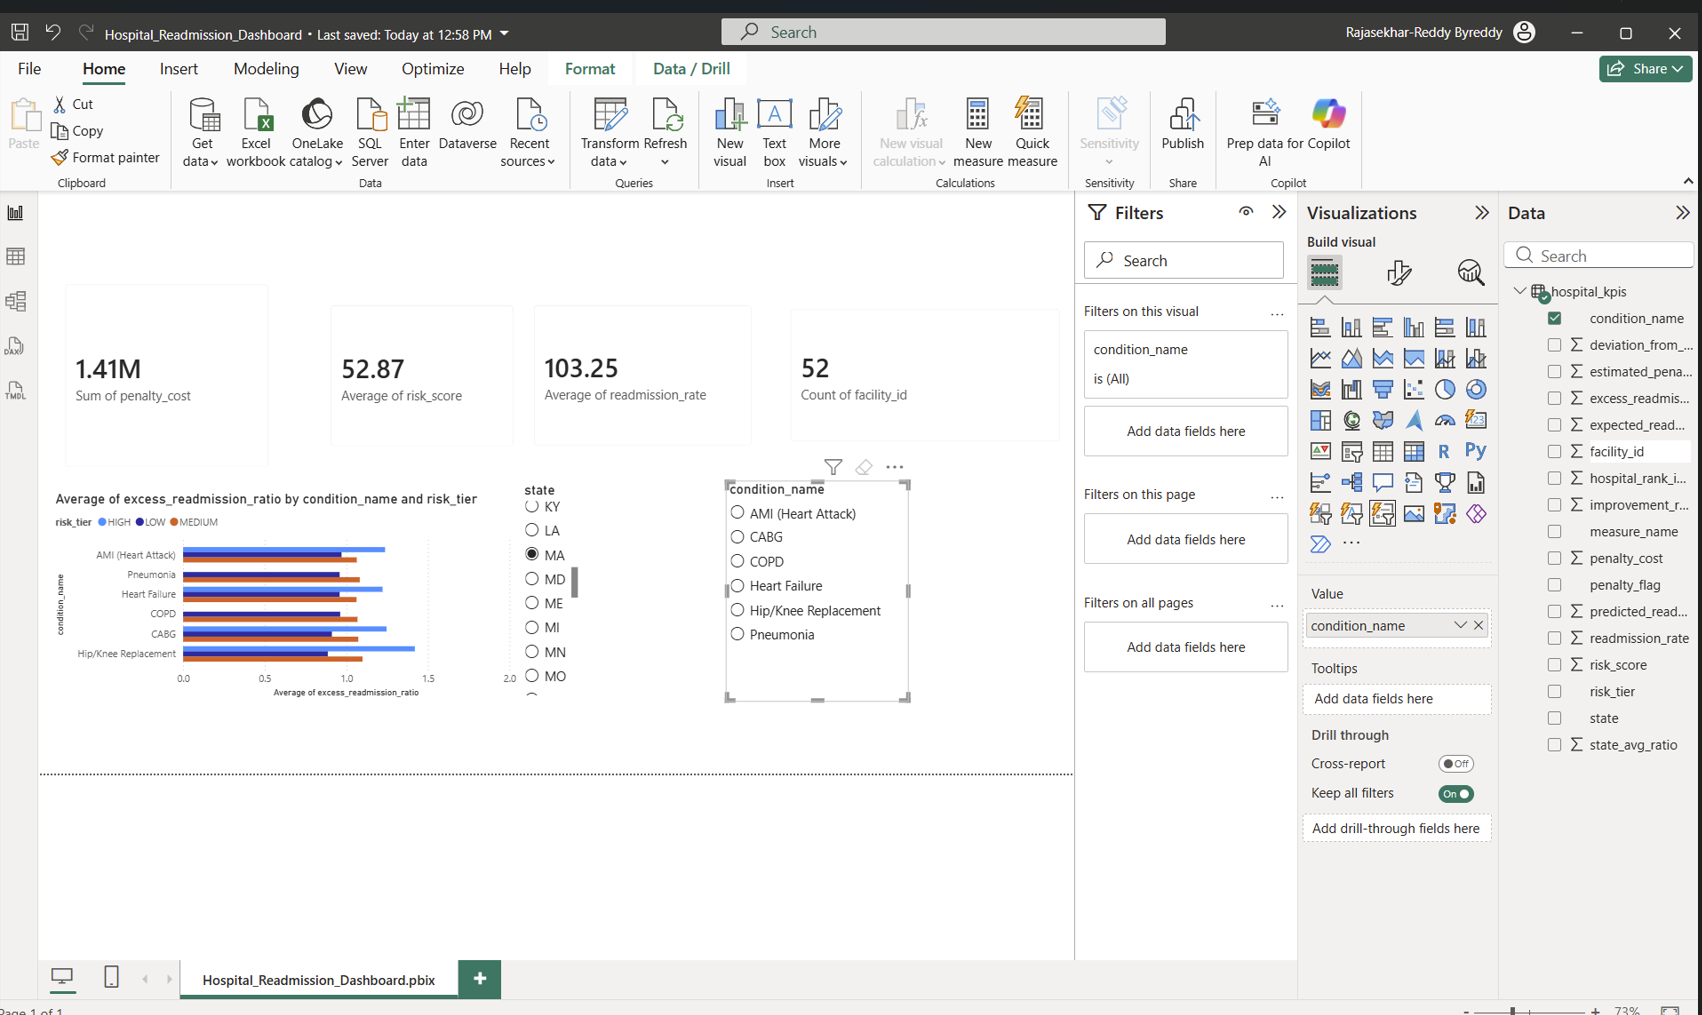

Layout of this report page (visuals, bound fields, positions):
{"tool":"powerbi","page":{"name":"Hospital_Readmission_Dashboard.pbix","canvas":[1280,720],"ordinal":0},"visuals":[{"type":"cardVisual","fields":{"Data":["Sum(hospital_kpis.penalty_cost)"]},"box":[16.5,98.8,285.4,260.7],"z":0},{"type":"cardVisual","fields":{"Data":["Avg(hospital_kpis.risk_score)"]},"box":[344.4,124.9,260.7,208.6],"z":1000},{"type":"cardVisual","fields":{"Data":["Avg(hospital_kpis.readmission_rate)"]},"box":[595.5,124.9,303.3,207.2],"z":2000},{"type":"cardVisual","fields":{"Data":["Count(hospital_kpis.facility_id)"]},"box":[912.5,129,367.8,199],"z":2001},{"type":"clusteredBarChart","fields":{"Category":["hospital_kpis.condition_name"],"Y":["Avg(hospital_kpis.excess_readmission_ratio)"],"Series":["hospital_kpis.risk_tier"]},"box":[16.5,370.5,579.1,260.7],"z":2002},{"type":"listSlicer","fields":{"Values":["hospital_kpis.state"]},"box":[595.5,359.5,76.8,271.7],"z":2003},{"type":"listSlicer","fields":{"Values":["hospital_kpis.condition_name"]},"box":[673,360,226,272],"z":2004}]}

Visuals, with their boxes on the page's 1280x720 design canvas (x1, y1, x2, y2). These are canvas units, not pixel positions in the 1702x1015 screenshot, which may show the page scaled, cropped or inside an application window:
cardVisual - Sum(hospital_kpis.penalty_cost): (x1=16, y1=99, x2=302, y2=360)
cardVisual - Avg(hospital_kpis.risk_score): (x1=344, y1=125, x2=605, y2=334)
cardVisual - Avg(hospital_kpis.readmission_rate): (x1=596, y1=125, x2=899, y2=332)
cardVisual - Count(hospital_kpis.facility_id): (x1=912, y1=129, x2=1280, y2=328)
clusteredBarChart - hospital_kpis.condition_name x Avg(hospital_kpis.excess_readmission_ratio): (x1=16, y1=370, x2=596, y2=631)
listSlicer - hospital_kpis.state: (x1=596, y1=360, x2=672, y2=631)
listSlicer - hospital_kpis.condition_name: (x1=673, y1=360, x2=899, y2=632)
